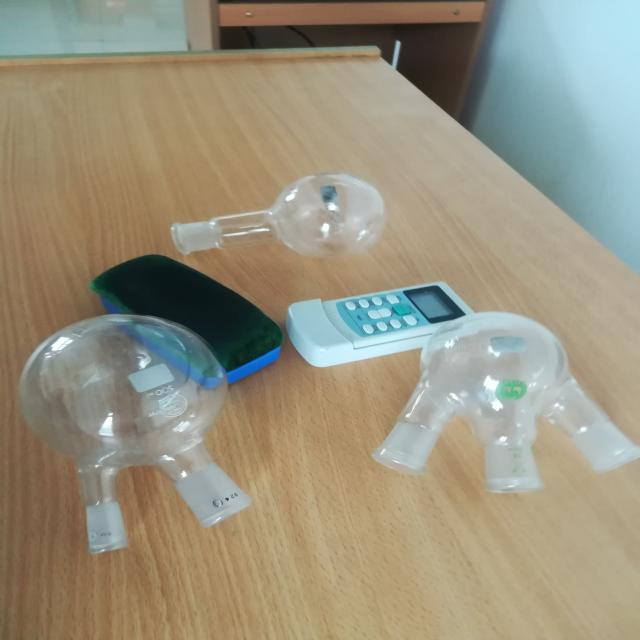Round_Bottom_Flask_Borosilicate_Glass_1_Neck: (145, 163, 416, 275)
Round_Bottom_Flask_Borosilicate_Glass_2_Neck: (0, 303, 285, 571)
Round_Bottom_Flask_Borosilicate_Glass_3_Neck: (364, 299, 640, 520)
